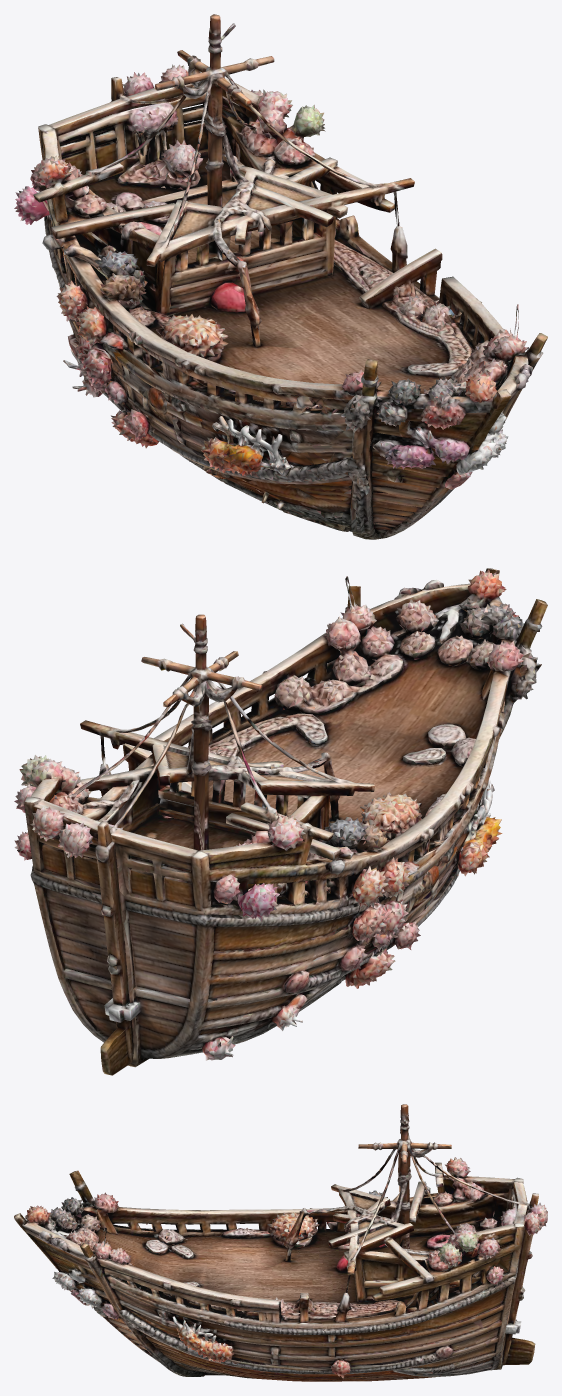
File: wreck.glb
The picture shows the model from 3 angles, top to bottom: view 1: azimuth 30°, elevation 25°; view 2: azimuth 150°, elevation 25°; view 3: azimuth 270°, elevation 25°; orthographic projection. The views are drawn at different scales.
Visible parts, largest first — view 1: wreck; view 2: wreck; view 3: wreck.
Part boxes in pixels (<box>): wreck: <box>14,14,547,539</box>; wreck: <box>14,568,547,1075</box>; wreck: <box>14,1104,547,1381</box>.
Bounding box in the file's own units: 0.477 × 0.5591 × 1.
1 material, 1 textured.
